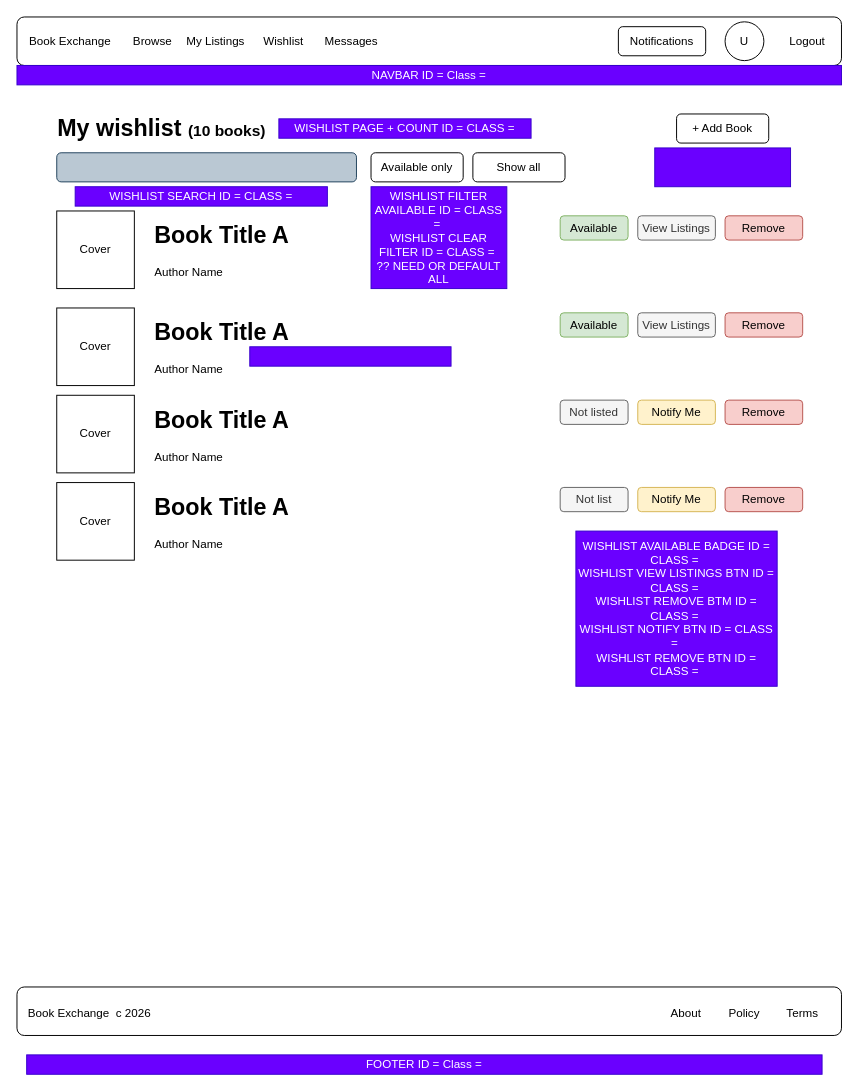
Some shapes in this 858 by 1091 pixel diagram are drawn without their labels. The shapes that lost their labels are listed below. From the top down, each one's box as (x1, y1, x2, y2) in pixels, then its label:
(56, 152, 356, 182): Search wishlit....
(654, 147, 791, 187): WISHLIST ADD BOOK BTN ID = CLASS =
(249, 346, 451, 366): WISHLIST ITEM ID = CLASS =
